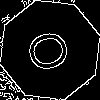O: (25, 25, 80, 75)
